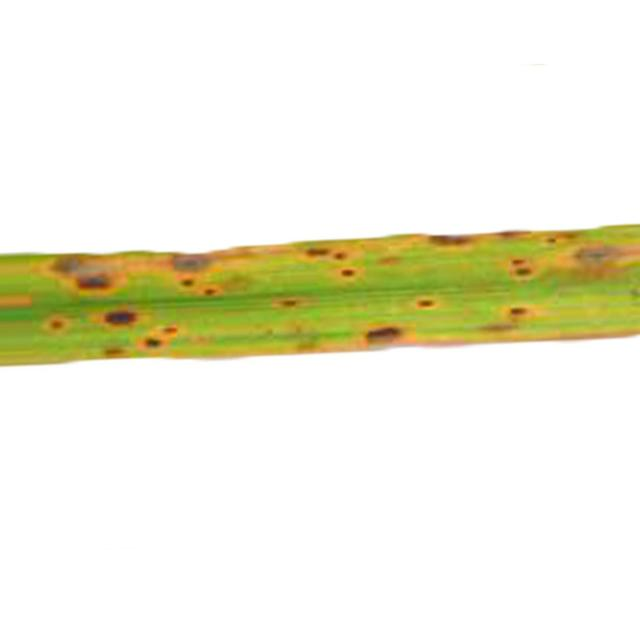Brown_Spot: (575, 245, 616, 270), (465, 322, 512, 341), (366, 326, 404, 345), (38, 314, 70, 334), (271, 296, 315, 310), (174, 254, 210, 271), (428, 235, 472, 246), (78, 274, 110, 289), (51, 255, 79, 272), (175, 278, 200, 295), (330, 268, 365, 280), (105, 311, 135, 324), (509, 306, 536, 320), (102, 346, 130, 359), (136, 336, 162, 350), (415, 298, 439, 310), (196, 285, 222, 296), (510, 265, 536, 276), (496, 231, 531, 239), (158, 324, 179, 336), (509, 258, 531, 269), (305, 248, 329, 256), (332, 249, 349, 260), (546, 236, 565, 244)
